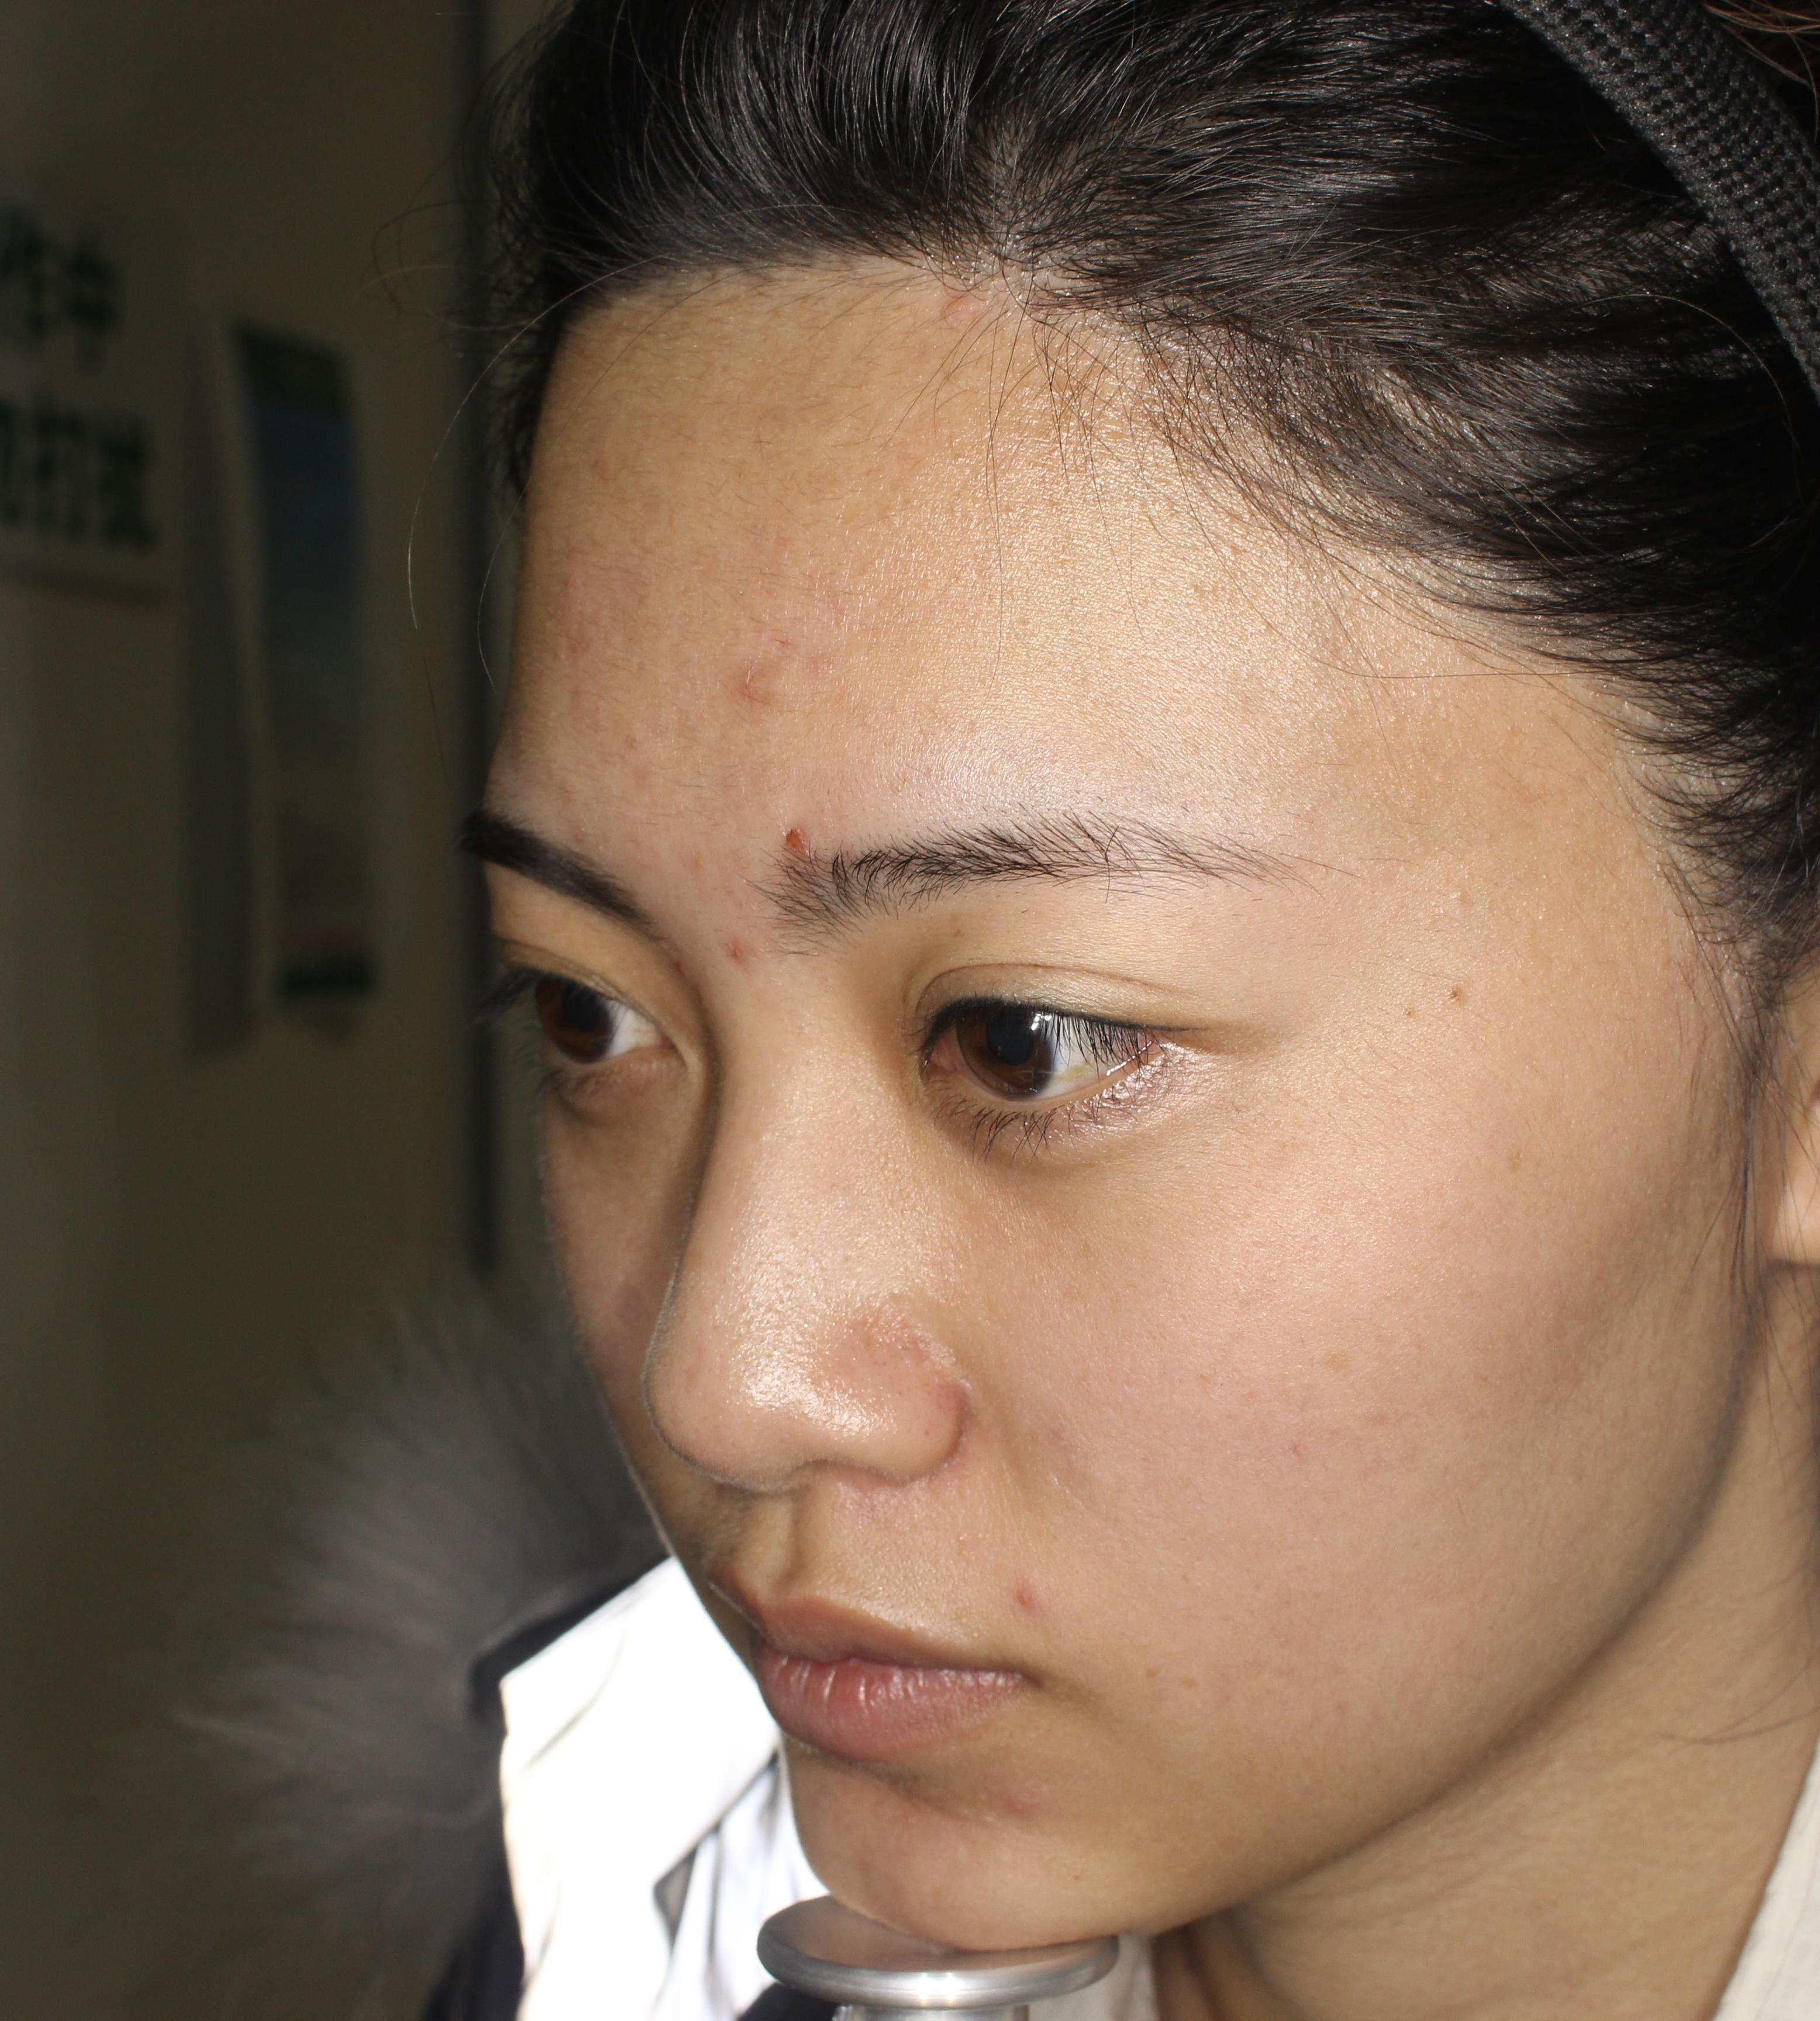fore: (979, 1759, 1063, 1826), (719, 648, 785, 711), (991, 1568, 1063, 1617), (719, 917, 762, 989)
